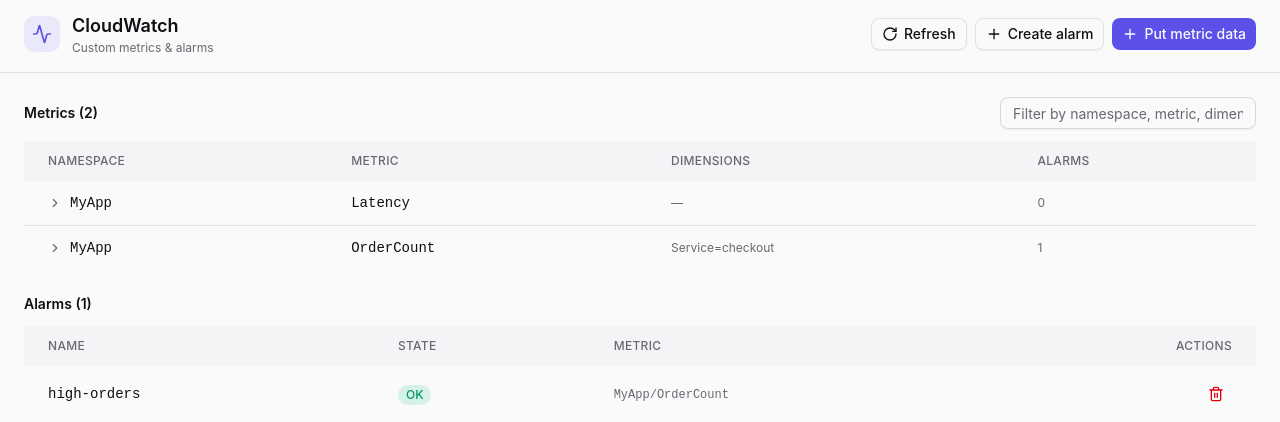
Test: CloudWatchServiceView › filters metrics by search
Type "latency" into the field with placeholder "Filter by namespace, metric, dimension…" at (1128, 113), box [1000,97,1256,129]
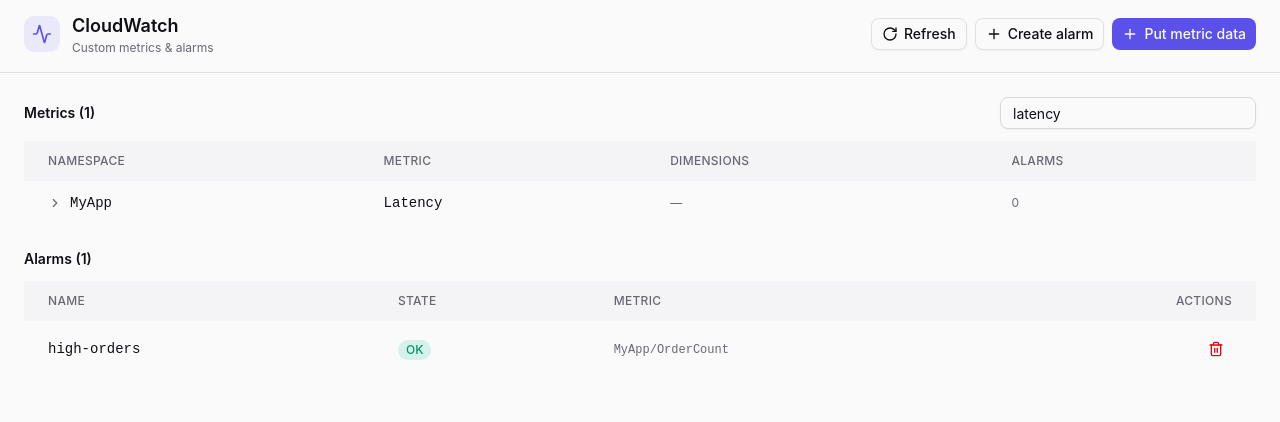
Expected: the text "Latency" is shown, [360,181,646,225]
Expected: the heading "Metrics (1)" is shown, [24,103,95,123]
